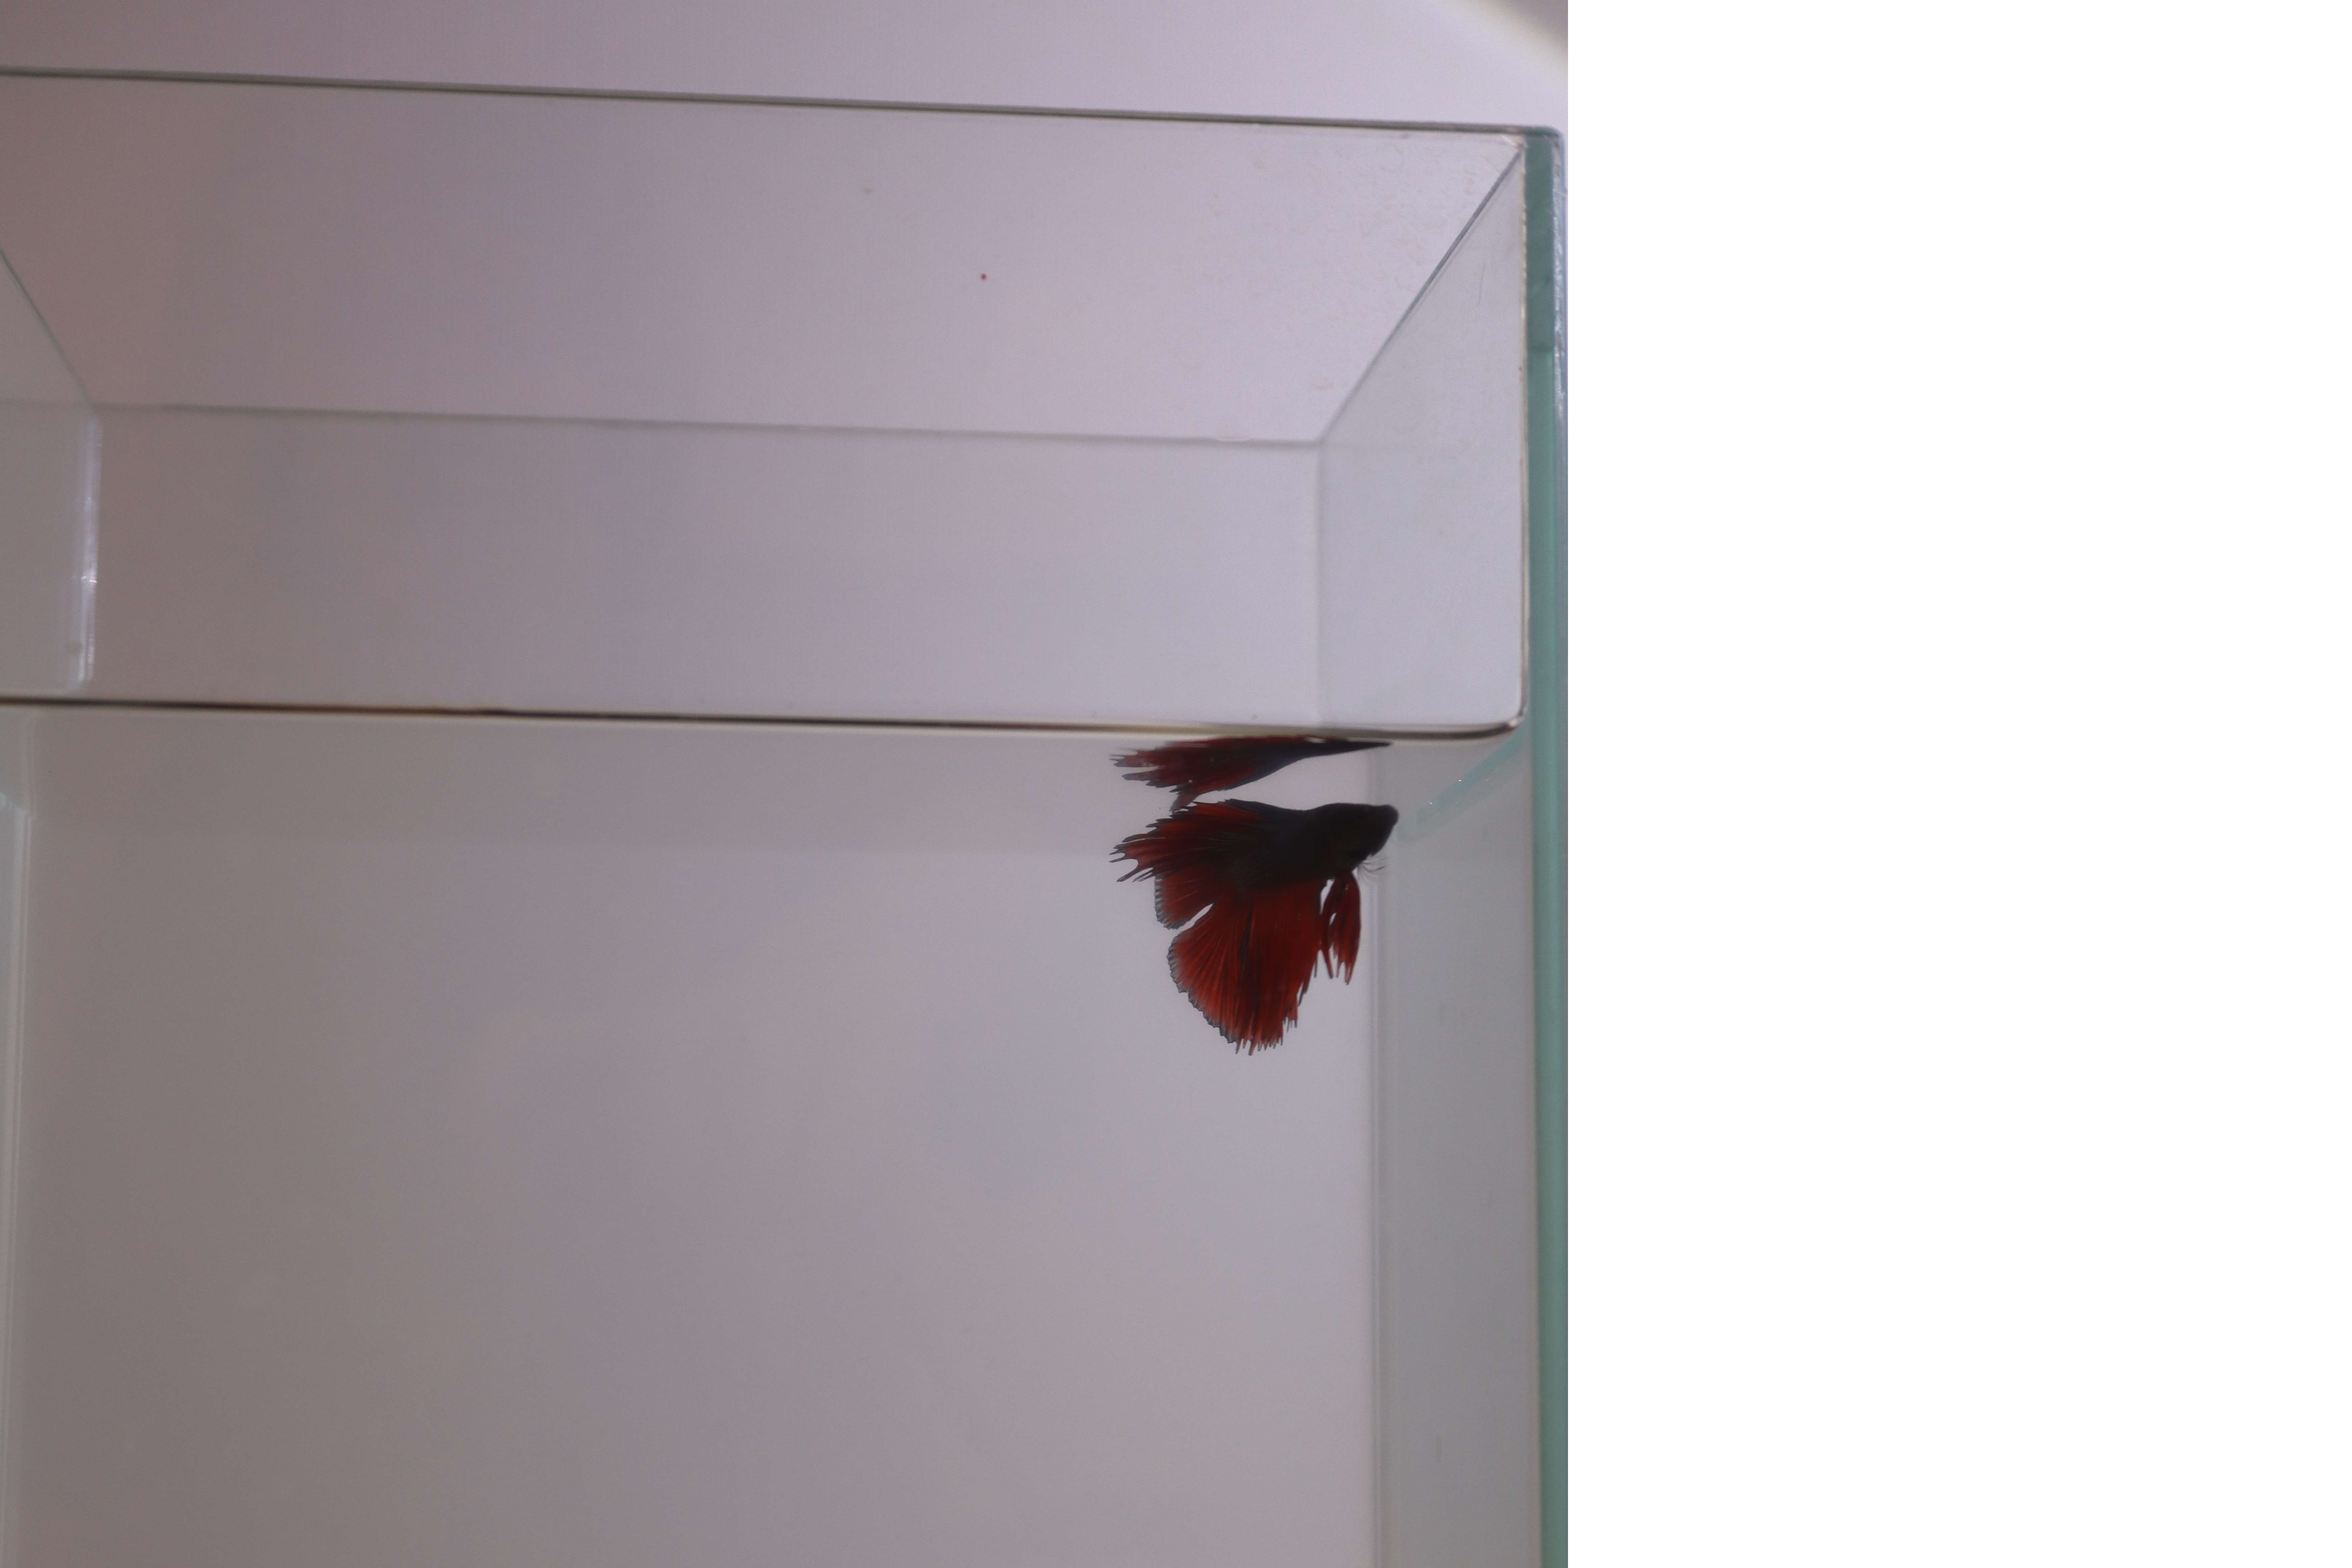fish: (1097, 789, 1409, 1046)
